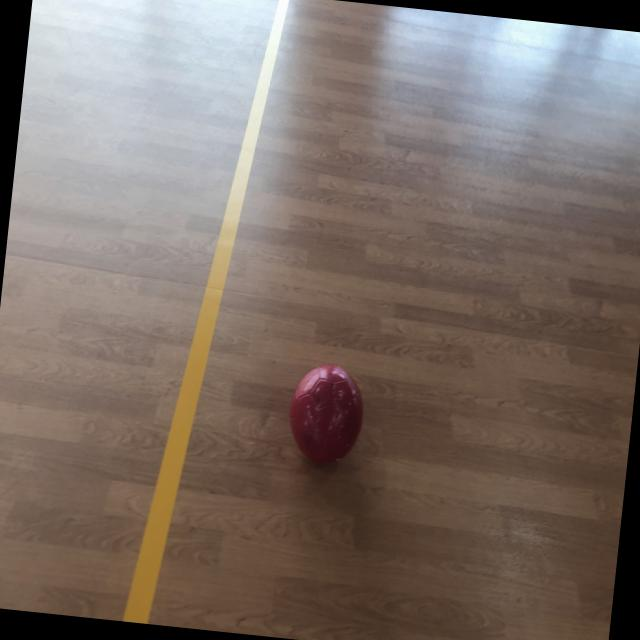red_ball: (286, 362, 368, 472)
